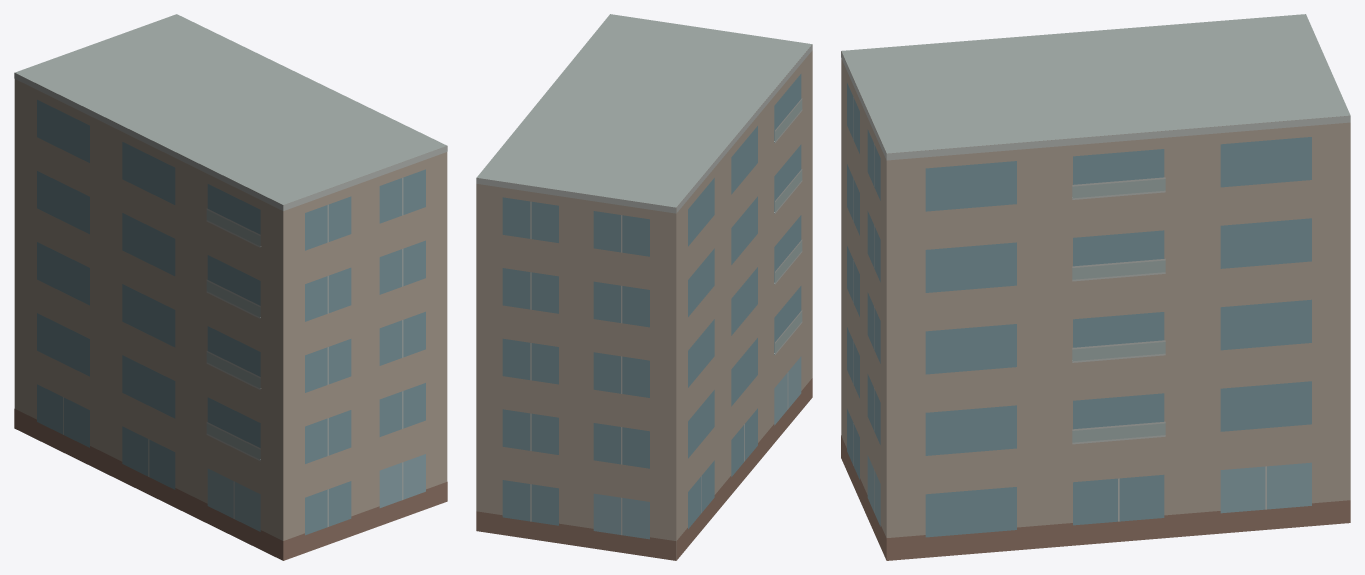
The model's file is survey-upis-32843673.glb.
3 views of the same model, side by side, from view 1: azimuth 30°, elevation 25°; view 2: azimuth 150°, elevation 25°; view 3: azimuth 270°, elevation 25° (orthographic). The views are drawn at different scales.
Parts seen in each view (by area): view 1: survey-upis-32843673.tmp; view 2: survey-upis-32843673.tmp; view 3: survey-upis-32843673.tmp.
Part boxes in pixels (x1,y1,x2,y2): survey-upis-32843673.tmp: (14,14,447,560); survey-upis-32843673.tmp: (476,14,812,560); survey-upis-32843673.tmp: (841,14,1350,560).
Size of the model in its own units: 10.52 by 14.3 by 16.22.
